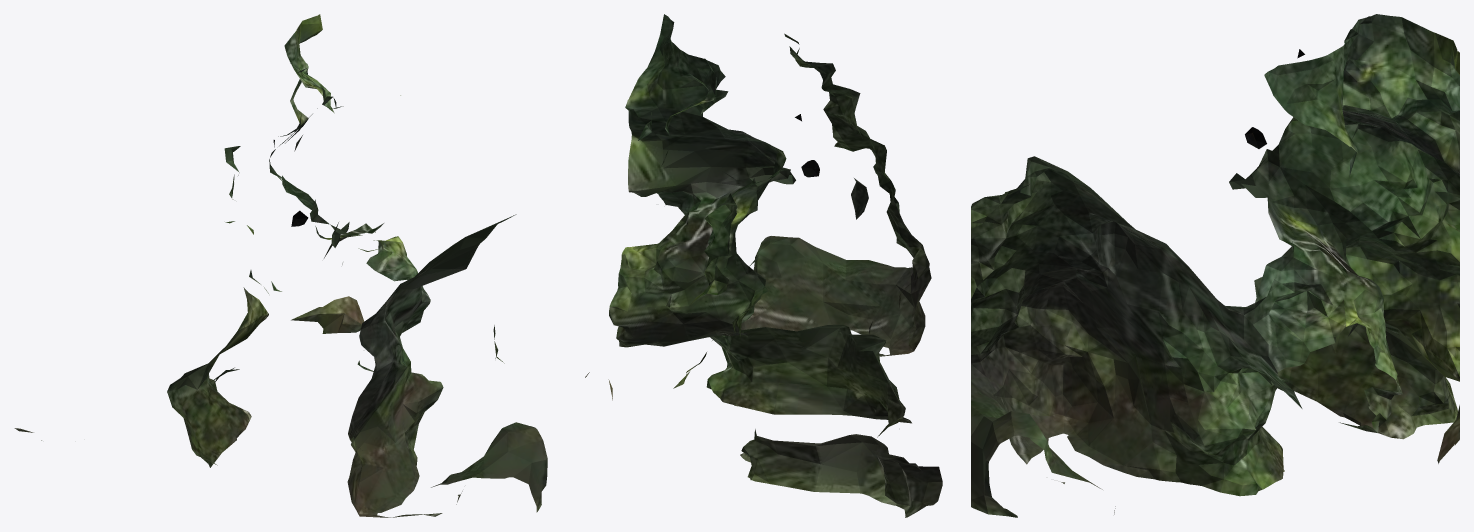
3 views of the same model, side by side, from view 1: azimuth 30°, elevation 25°; view 2: azimuth 150°, elevation 25°; view 3: azimuth 270°, elevation 25° (orthographic). The views are drawn at different scales.
Bounding box in the file's own units: 5.9 × 5.9 × 5.9.
Materials: 5 (5 with a texture image).
